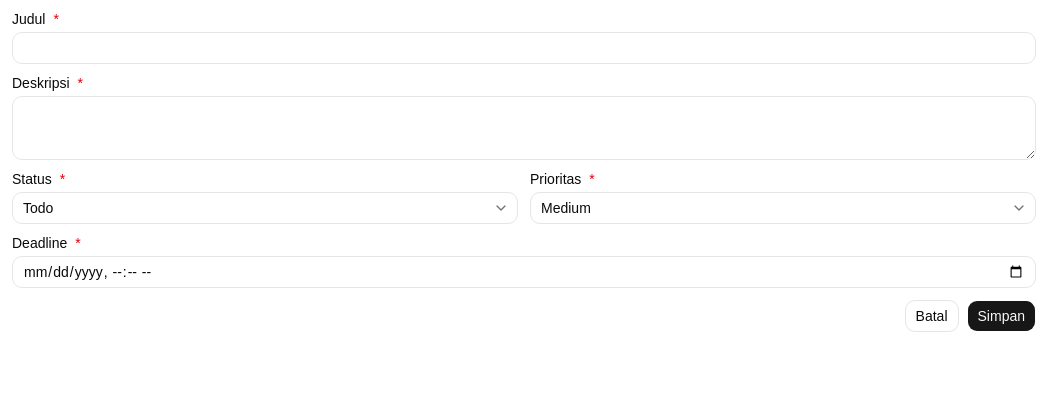
TaskForm › clears a field error when that field is edited
Click the button "Simpan" at (1001, 316), box x1=966 y1=300 x2=1036 y2=332
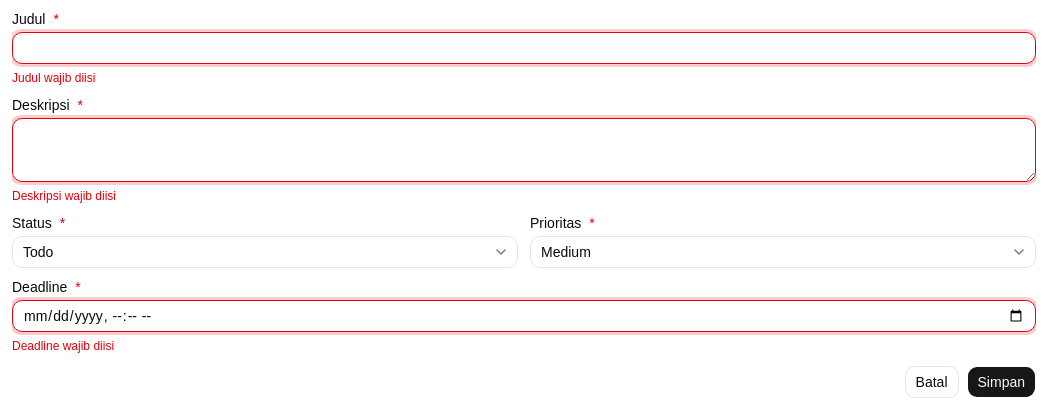
Type "Isi" into the text box labelled "Deskripsi *" at (524, 150), box x1=12 y1=118 x2=1036 y2=182
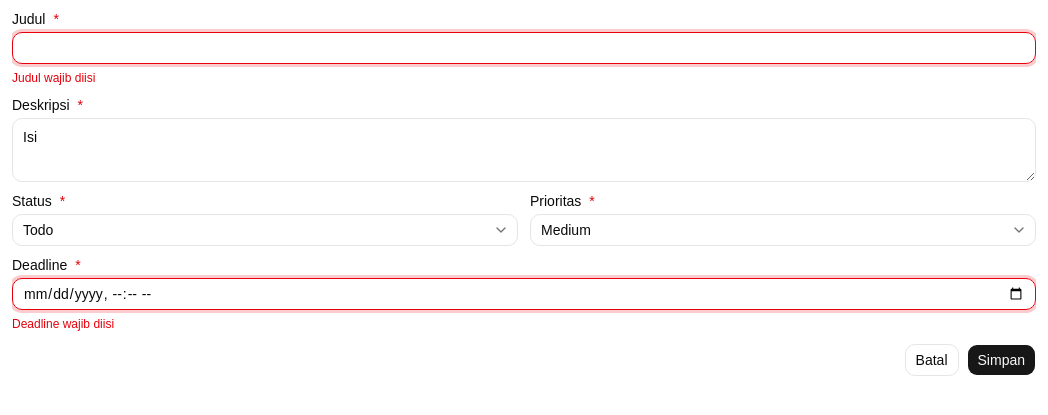
Check: the text "Judul wajib diisi" is shown, box x1=12 y1=71 x2=95 y2=85
Check: the text "Deskripsi wajib diisi" is gone
